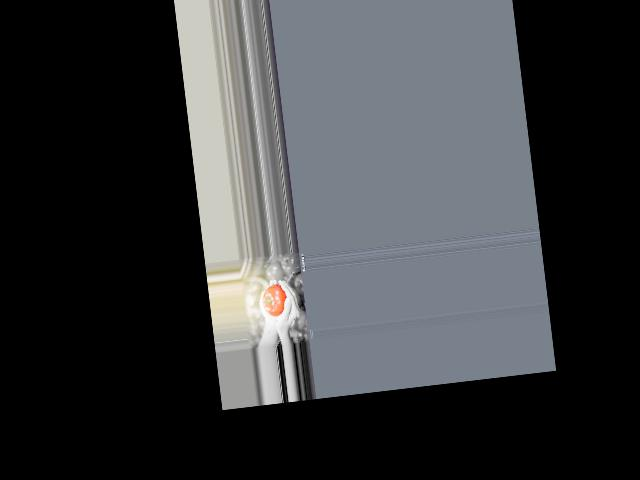tomato: (261, 283, 288, 318)
